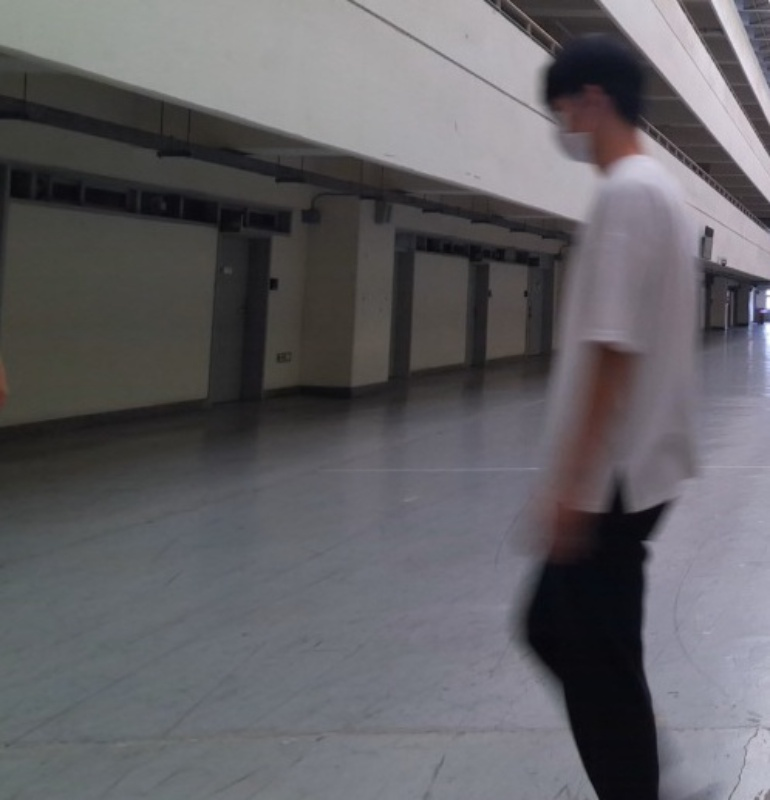person: (500, 34, 718, 800)
